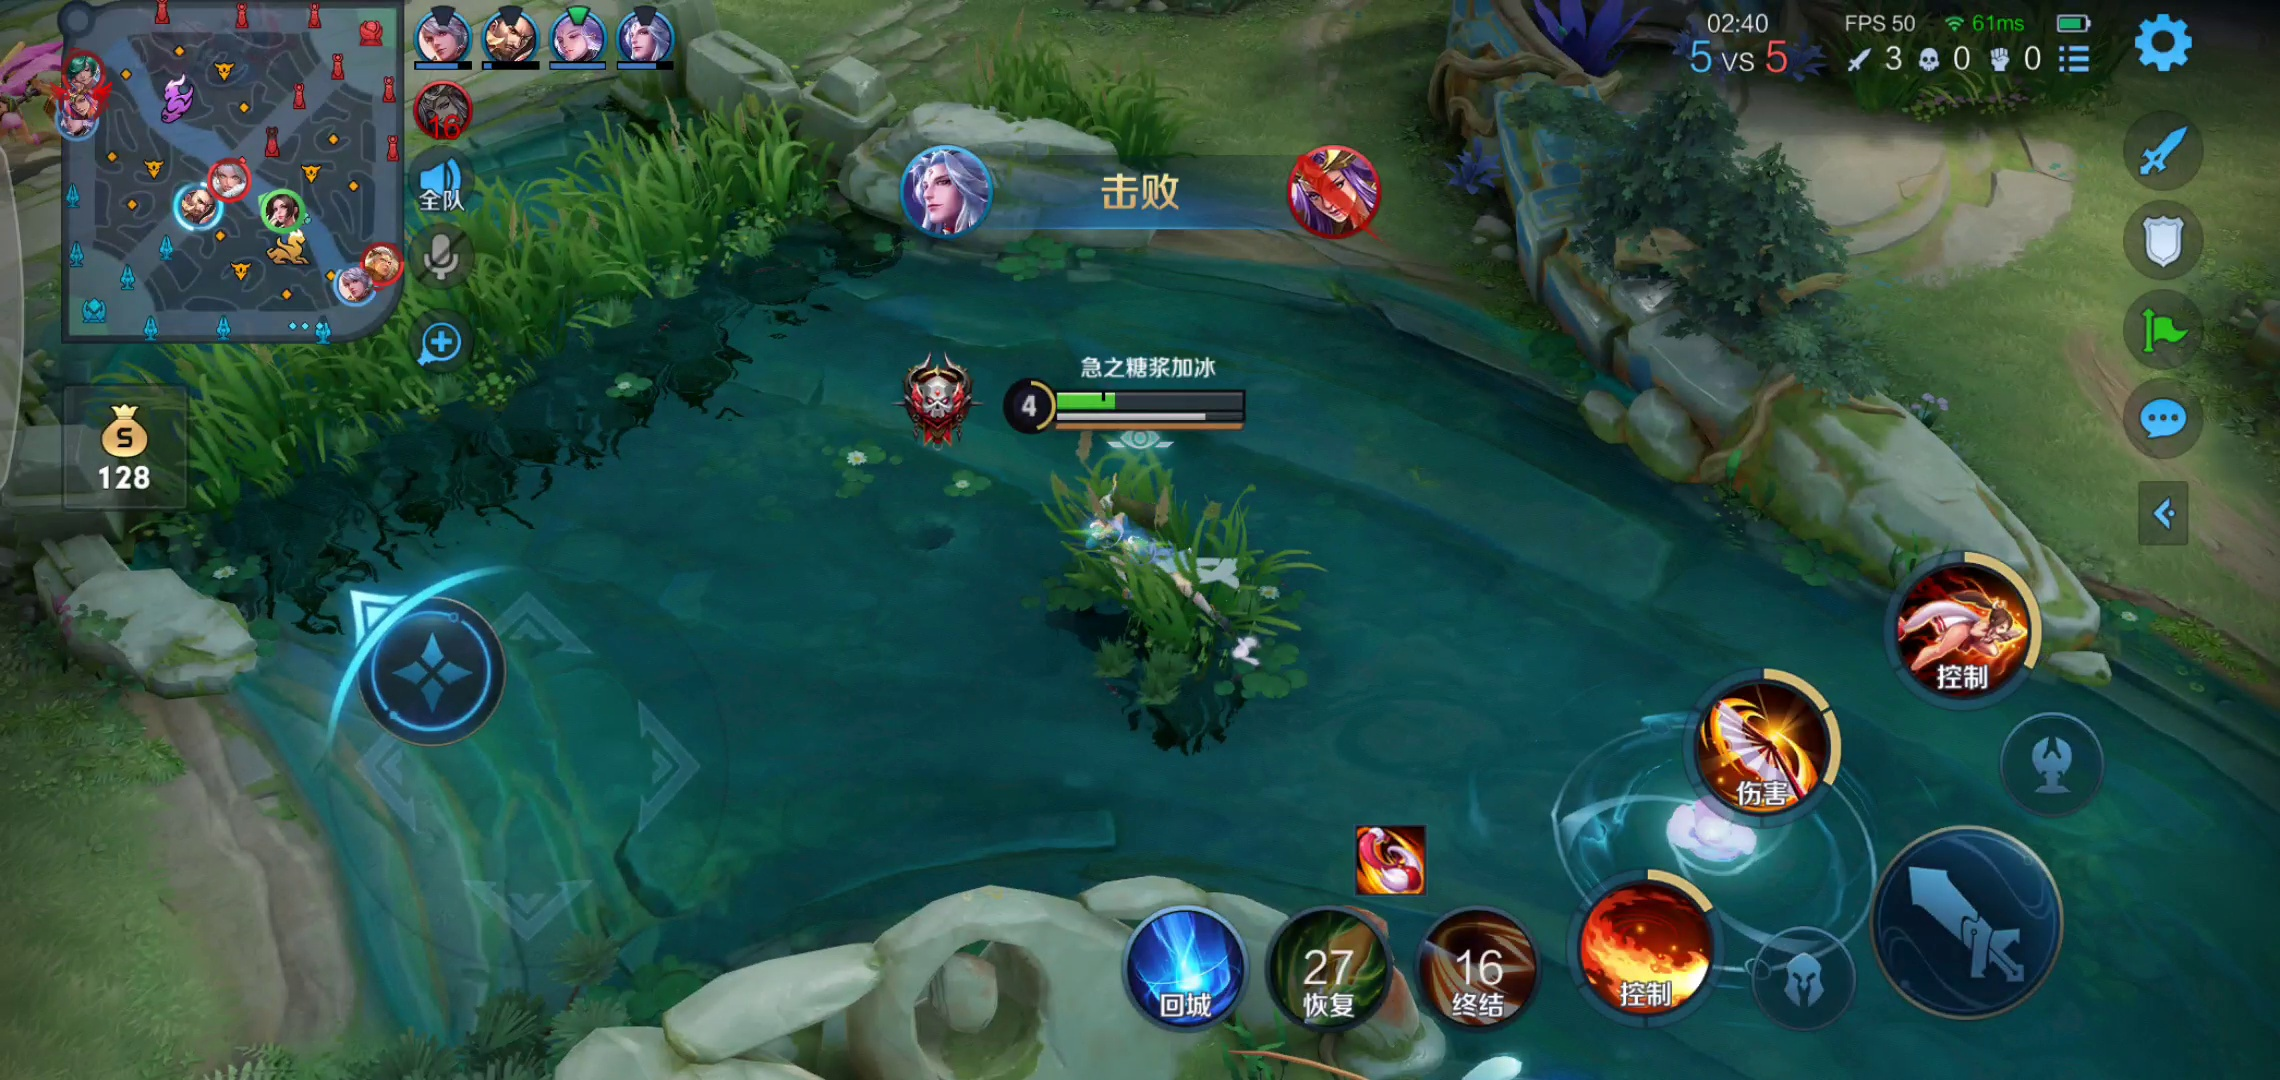grass: (22, 121, 824, 522), (1028, 459, 1291, 672), (1855, 15, 2132, 124), (944, 60, 1181, 141)
hero: (1088, 490, 1229, 619)
